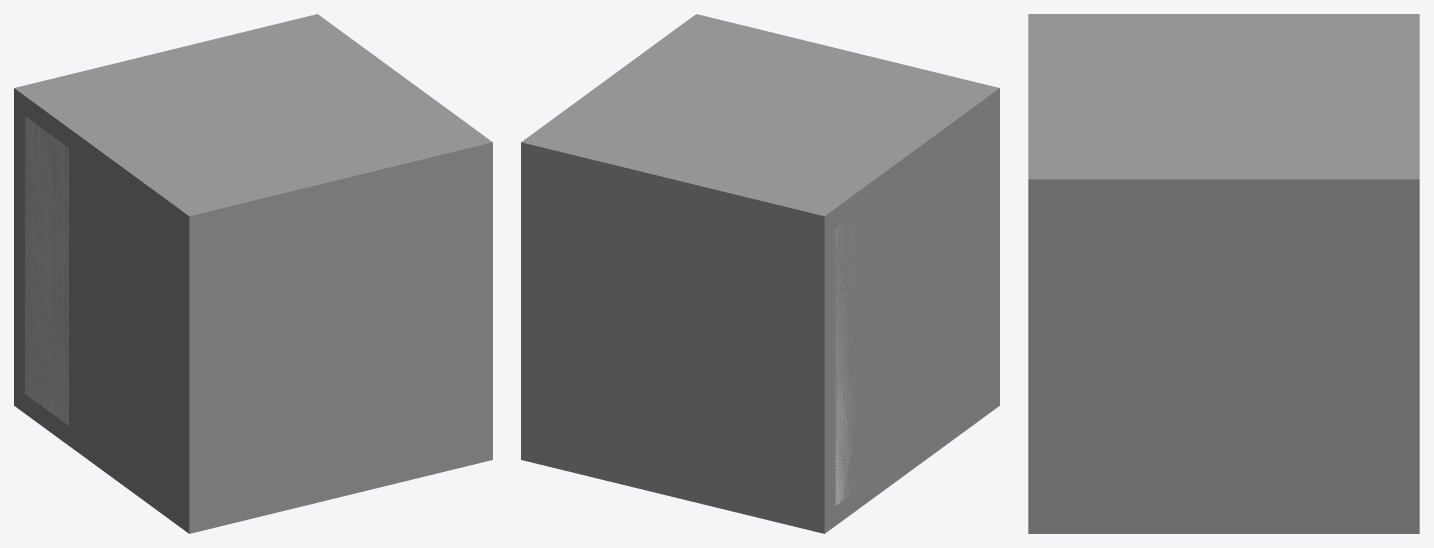
Rendered from DataloggerCRTFloor.obj.
The picture shows the model from 3 angles, left to right: view 1: azimuth 30°, elevation 25°; view 2: azimuth 150°, elevation 25°; view 3: azimuth 270°, elevation 25°; orthographic projection. The views are drawn at different scales.
Visible parts, largest first — view 1: Minecraft_Block_Cube, main; view 2: Minecraft_Block_Cube, main; view 3: Minecraft_Block_Cube.
Boxes of the visible parts, x1,y1,x2,y2 form: Minecraft_Block_Cube: (14, 14, 492, 533); main: (25, 116, 68, 425); Minecraft_Block_Cube: (521, 14, 999, 533); main: (835, 203, 878, 505); Minecraft_Block_Cube: (1028, 14, 1419, 533).
Size of the model in its own units: 1 by 1 by 1.
3 materials, 2 textured.
